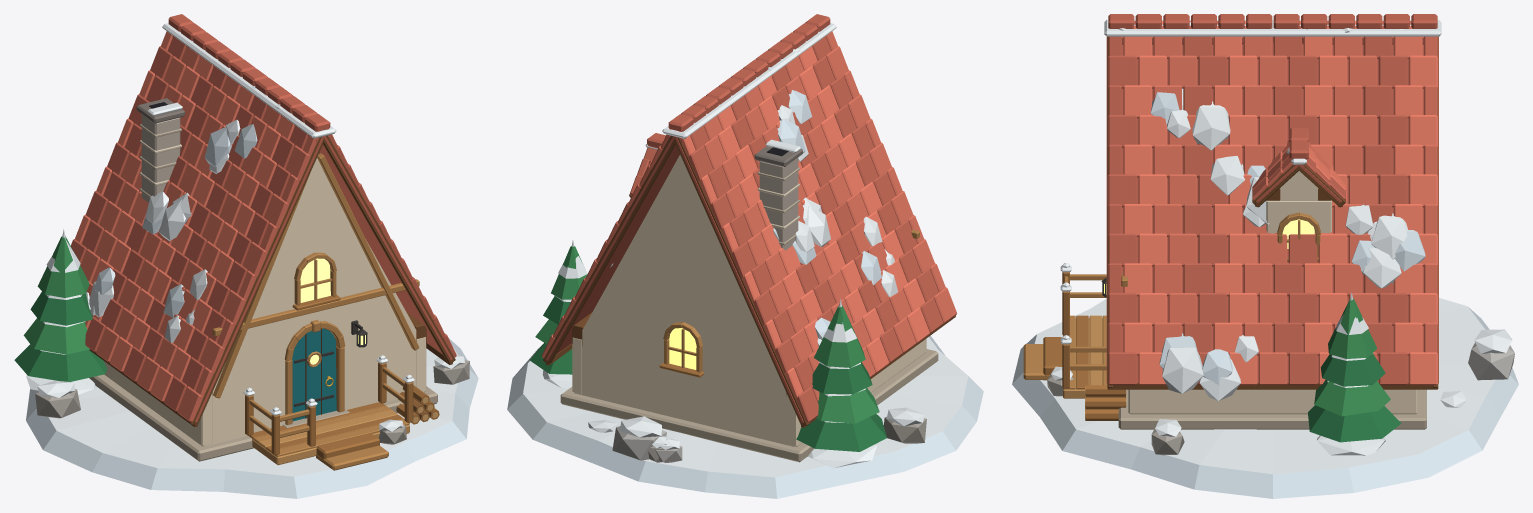
Rendered from aframe_cabin_exterior.glb.
The picture shows the model from 3 angles, left to right: view 1: azimuth 30°, elevation 25°; view 2: azimuth 150°, elevation 25°; view 3: azimuth 270°, elevation 25°; orthographic projection. The views are drawn at different scales.
Visible parts, largest first — view 1: aframe_cabin_exterior_roof, aframe_cabin_exterior, part_crown__park, part_door_leaf; view 2: aframe_cabin_exterior, aframe_cabin_exterior_roof, part_crown__park, part_crown; view 3: aframe_cabin_exterior_roof, aframe_cabin_exterior, part_crown.
Part boxes in pixels (<box>): aframe_cabin_exterior_roof: <box>71,14,456,427</box>; aframe_cabin_exterior: <box>26,153,478,498</box>; part_crown__park: <box>14,229,106,381</box>; part_door_leaf: <box>292,328,336,421</box>; aframe_cabin_exterior: <box>507,154,983,498</box>; aframe_cabin_exterior_roof: <box>542,14,956,427</box>; part_crown__park: <box>796,299,886,451</box>; part_crown: <box>529,240,587,374</box>; aframe_cabin_exterior_roof: <box>1104,14,1441,400</box>; aframe_cabin_exterior: <box>1012,263,1518,498</box>; part_crown: <box>1308,292,1401,442</box>.
Bounding box in the file's own units: 8.16 × 6.18 × 7.73.
